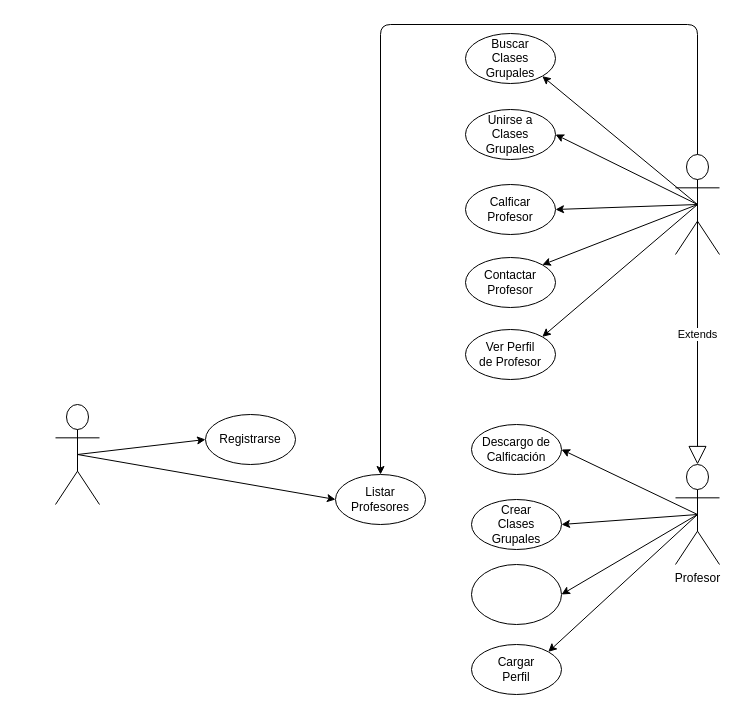
Image size: 737x712. Some labels were removed from this diagram. Each missing label, with the centre of its shape:
"Alumno" goes at [697,204].
"Autenticarse con Redes Sociales" goes at [516,594].
"Usuario No Registrado" goes at [77,454].
